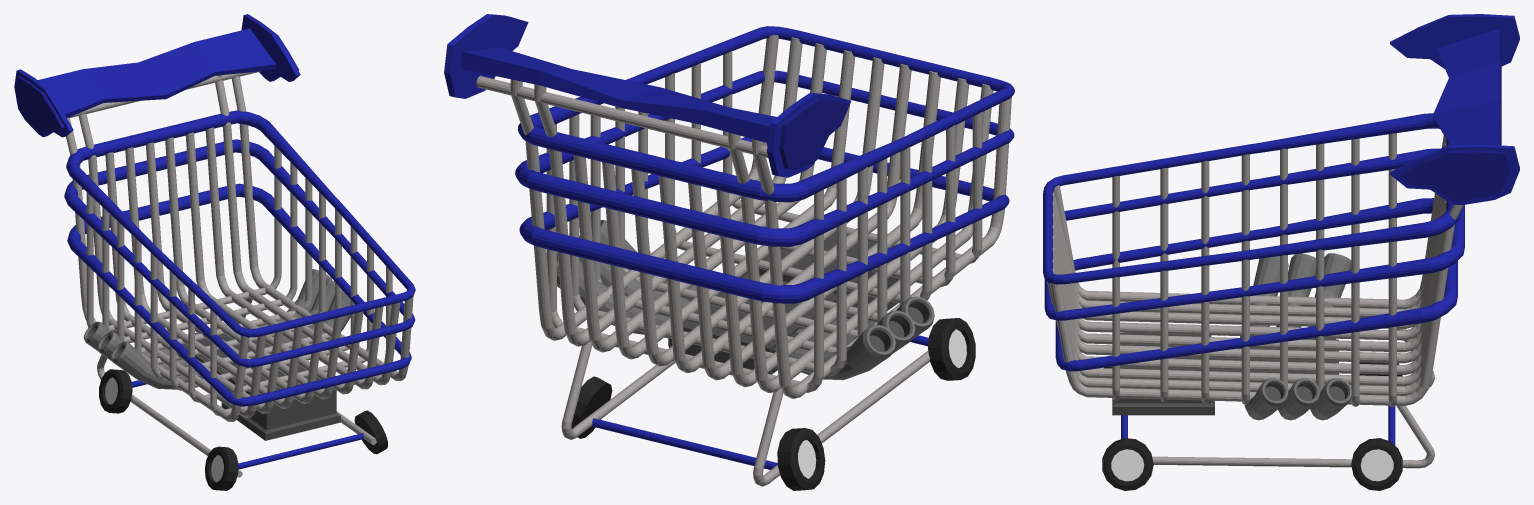
The model's file is GoCart_Vehicle.glb.
3 views of the same model, side by side, from view 1: azimuth 30°, elevation 25°; view 2: azimuth 150°, elevation 25°; view 3: azimuth 270°, elevation 25° (orthographic). The views are drawn at different scales.
Visible parts, largest first — view 1: ShoppingKart; view 2: ShoppingKart; view 3: ShoppingKart.
Boxes of the visible parts, bbox=[...] form: ShoppingKart: bbox=[14, 14, 415, 490]; ShoppingKart: bbox=[444, 14, 1014, 490]; ShoppingKart: bbox=[1043, 14, 1519, 490].
Bounding box in the file's own units: 6.07 × 7.35 × 8.7.
